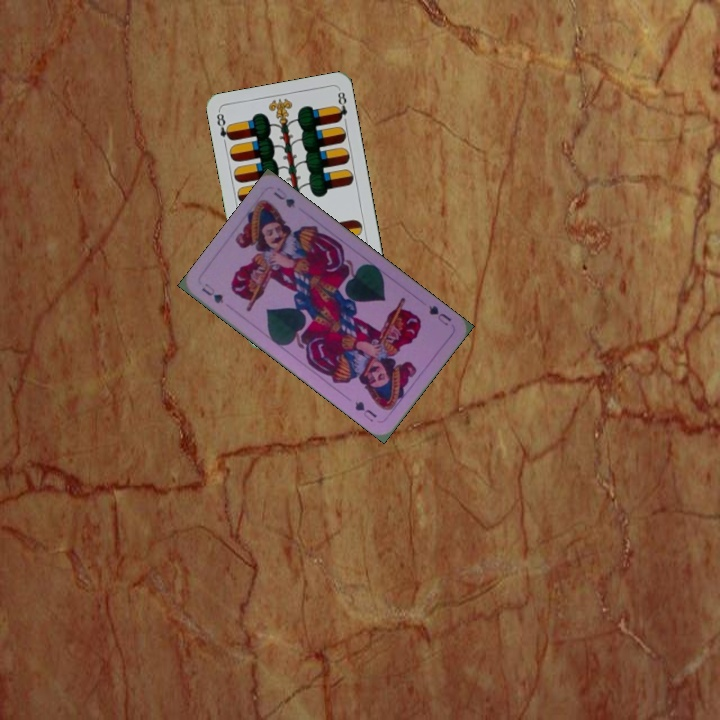E8: (212, 108, 235, 143)
GU: (425, 301, 454, 329), (197, 279, 226, 306)
